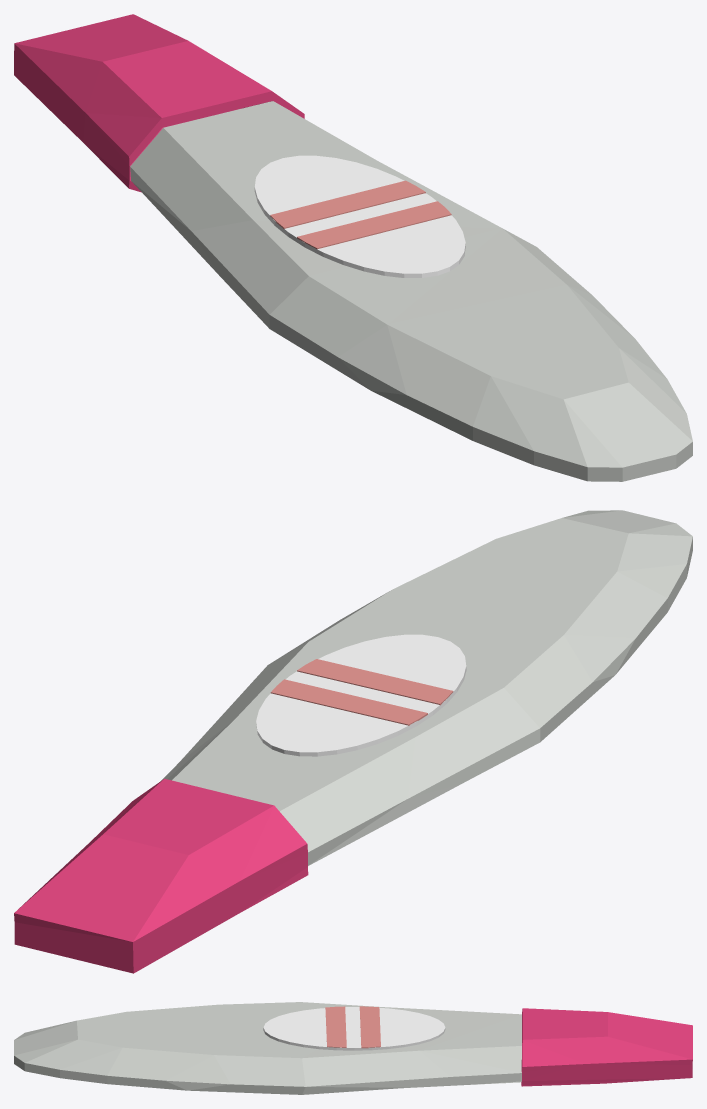
File: pregnancy test.fbx
3 views of the same model, one above another, from view 1: azimuth 30°, elevation 25°; view 2: azimuth 150°, elevation 25°; view 3: azimuth 270°, elevation 25° (orthographic). The views are drawn at different scales.
Visible parts, largest first — view 1: Test body, cap, screen, Cube.001; view 2: Test body, cap, screen, Cube.001; view 3: Test body, cap, screen, Cube.001.
Part boxes in pixels (left/top/right/bottom): Test body: left=130, top=101, right=692, bottom=481; cap: left=14, top=14, right=304, bottom=192; screen: left=254, top=155, right=465, bottom=277; Cube.001: left=270, top=180, right=451, bottom=249; Test body: left=161, top=510, right=692, bottom=865; cap: left=14, top=778, right=308, bottom=973; screen: left=256, top=634, right=466, bottom=756; Cube.001: left=270, top=659, right=453, bottom=725; Test body: left=14, top=1002, right=521, bottom=1094; cap: left=521, top=1008, right=692, bottom=1086; screen: left=263, top=1007, right=445, bottom=1050; Cube.001: left=325, top=1006, right=380, bottom=1048.
Size of the model in its own units: 0.052 by 0.0149 by 0.1922.
